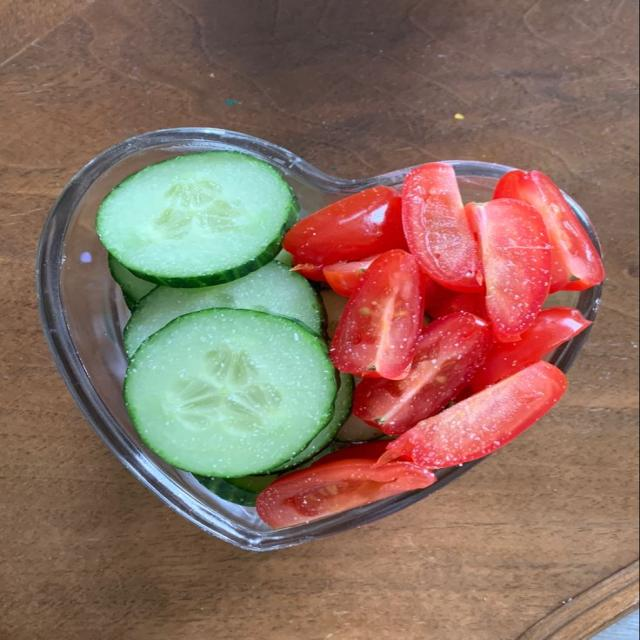sliced_tomato: (379, 362, 566, 469), (353, 312, 492, 435), (495, 171, 604, 291), (256, 456, 436, 528), (330, 250, 423, 379), (467, 199, 550, 341), (470, 308, 592, 392), (402, 163, 481, 291), (283, 186, 406, 265), (324, 257, 376, 297), (426, 292, 486, 319), (322, 439, 388, 462), (425, 275, 456, 308), (291, 263, 326, 281)
